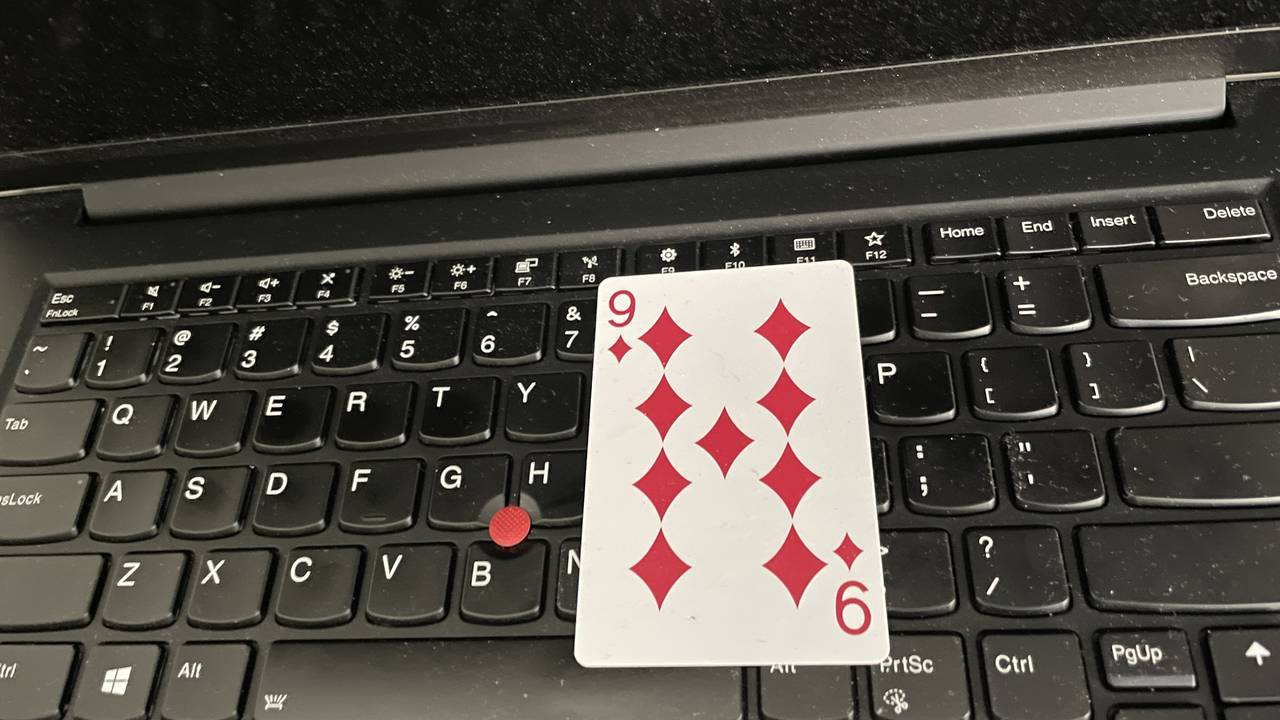nine: (607, 286, 874, 639)
